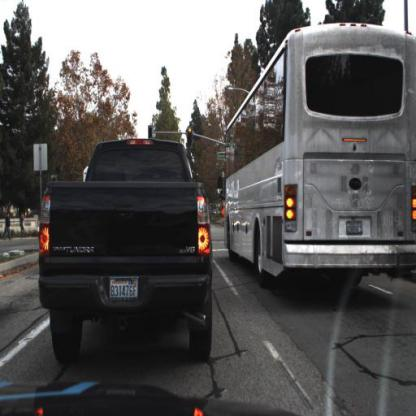car: (44, 141, 210, 352)
pedestrian: (4, 214, 13, 245), (20, 211, 28, 239), (19, 210, 26, 239), (4, 211, 9, 240)
trafficLight: (149, 124, 154, 141), (188, 128, 193, 145)
trafficLight-Red: (187, 127, 194, 147)
truck: (225, 20, 416, 293)
